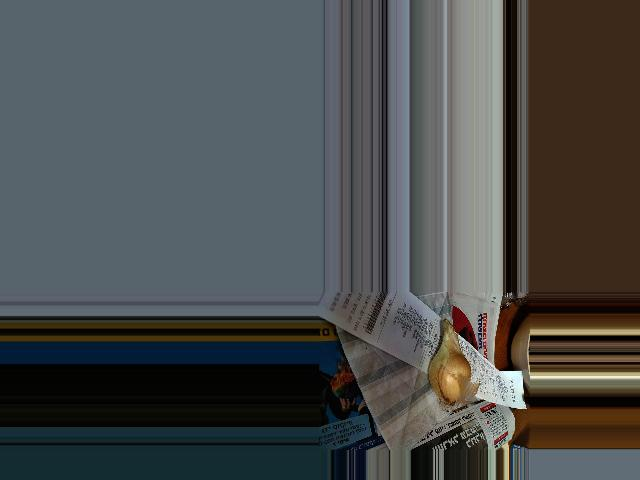onion: (430, 326, 468, 404)
